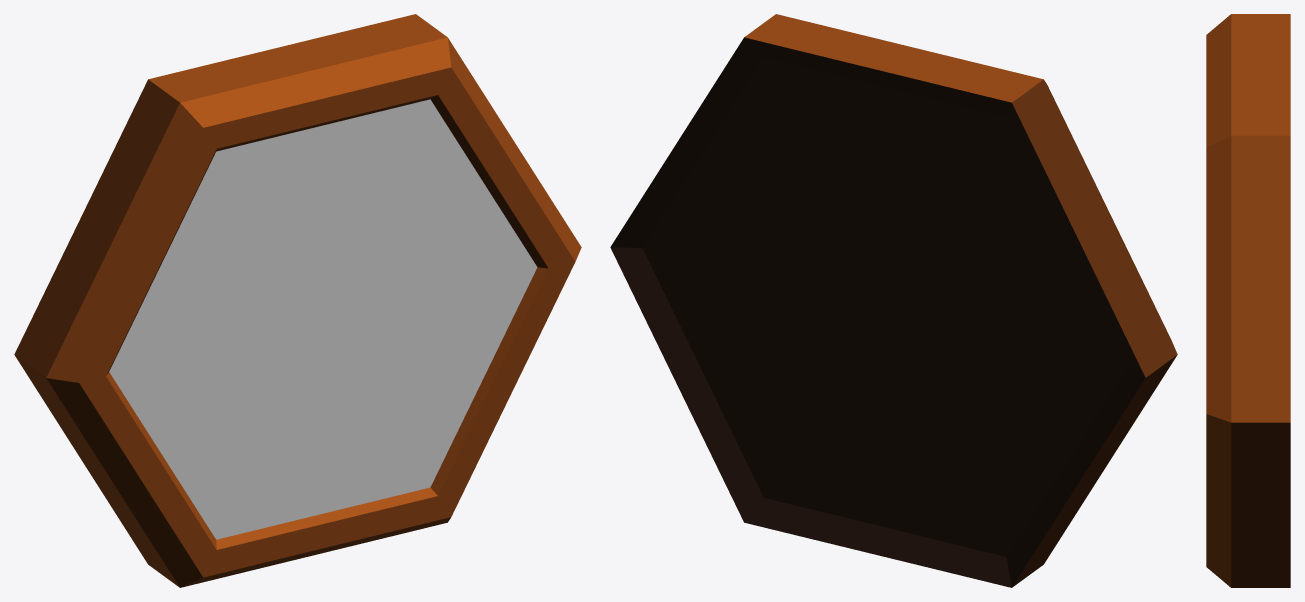
File: union_badge.fbx
The picture shows the model from 3 angles, left to right: view 1: azimuth 30°, elevation 25°; view 2: azimuth 150°, elevation 25°; view 3: azimuth 270°, elevation 25°; orthographic projection. The views are drawn at different scales.
Visible parts, largest first — view 1: Beeswax Union Badge; view 2: Beeswax Union Badge; view 3: Beeswax Union Badge.
Boxes of the visible parts, x1,y1,x2,y2 form: Beeswax Union Badge: [14, 14, 581, 587]; Beeswax Union Badge: [610, 14, 1177, 587]; Beeswax Union Badge: [1206, 14, 1290, 587].
Size of the model in its own units: 0.03 by 0.026 by 0.0044.
